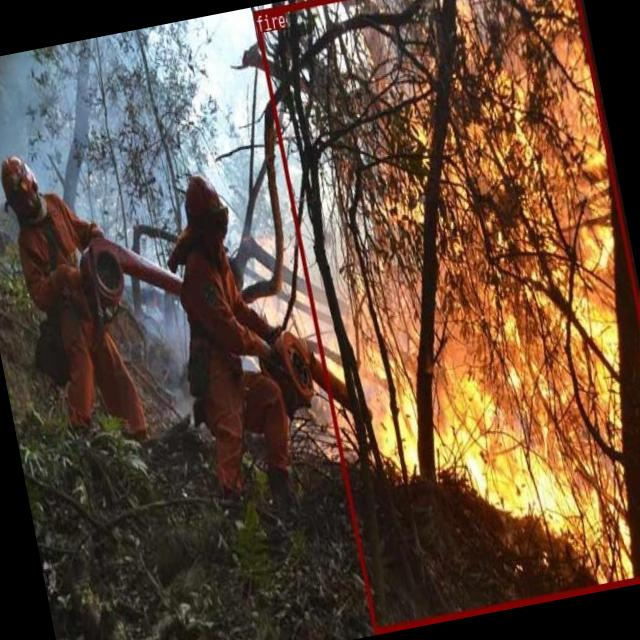fire: (254, 0, 640, 632)
